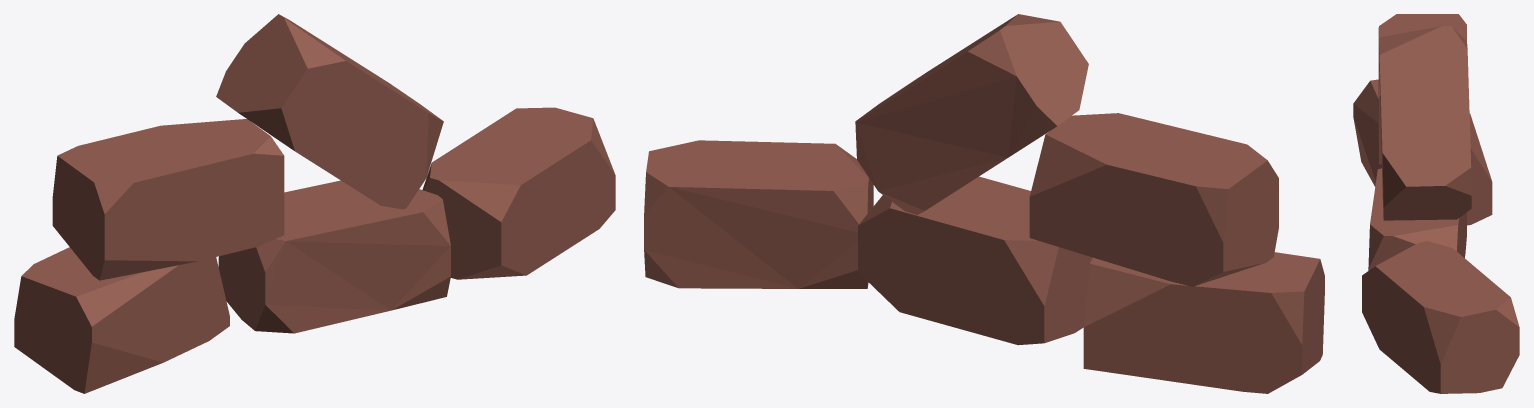
File: Brick_B_07.FBX
3 views of the same model, side by side, from view 1: azimuth 30°, elevation 25°; view 2: azimuth 150°, elevation 25°; view 3: azimuth 270°, elevation 25° (orthographic). The views are drawn at different scales.
Parts seen in each view (by area): view 1: Brick_B_07; view 2: Brick_B_07; view 3: Brick_B_07.
Boxes of the visible parts, x1,y1,x2,y2 form: Brick_B_07: (14, 14, 615, 393); Brick_B_07: (644, 14, 1324, 393); Brick_B_07: (1353, 14, 1519, 393).
Bounding box in the file's own units: 3.81 × 1.69 × 1.07.
